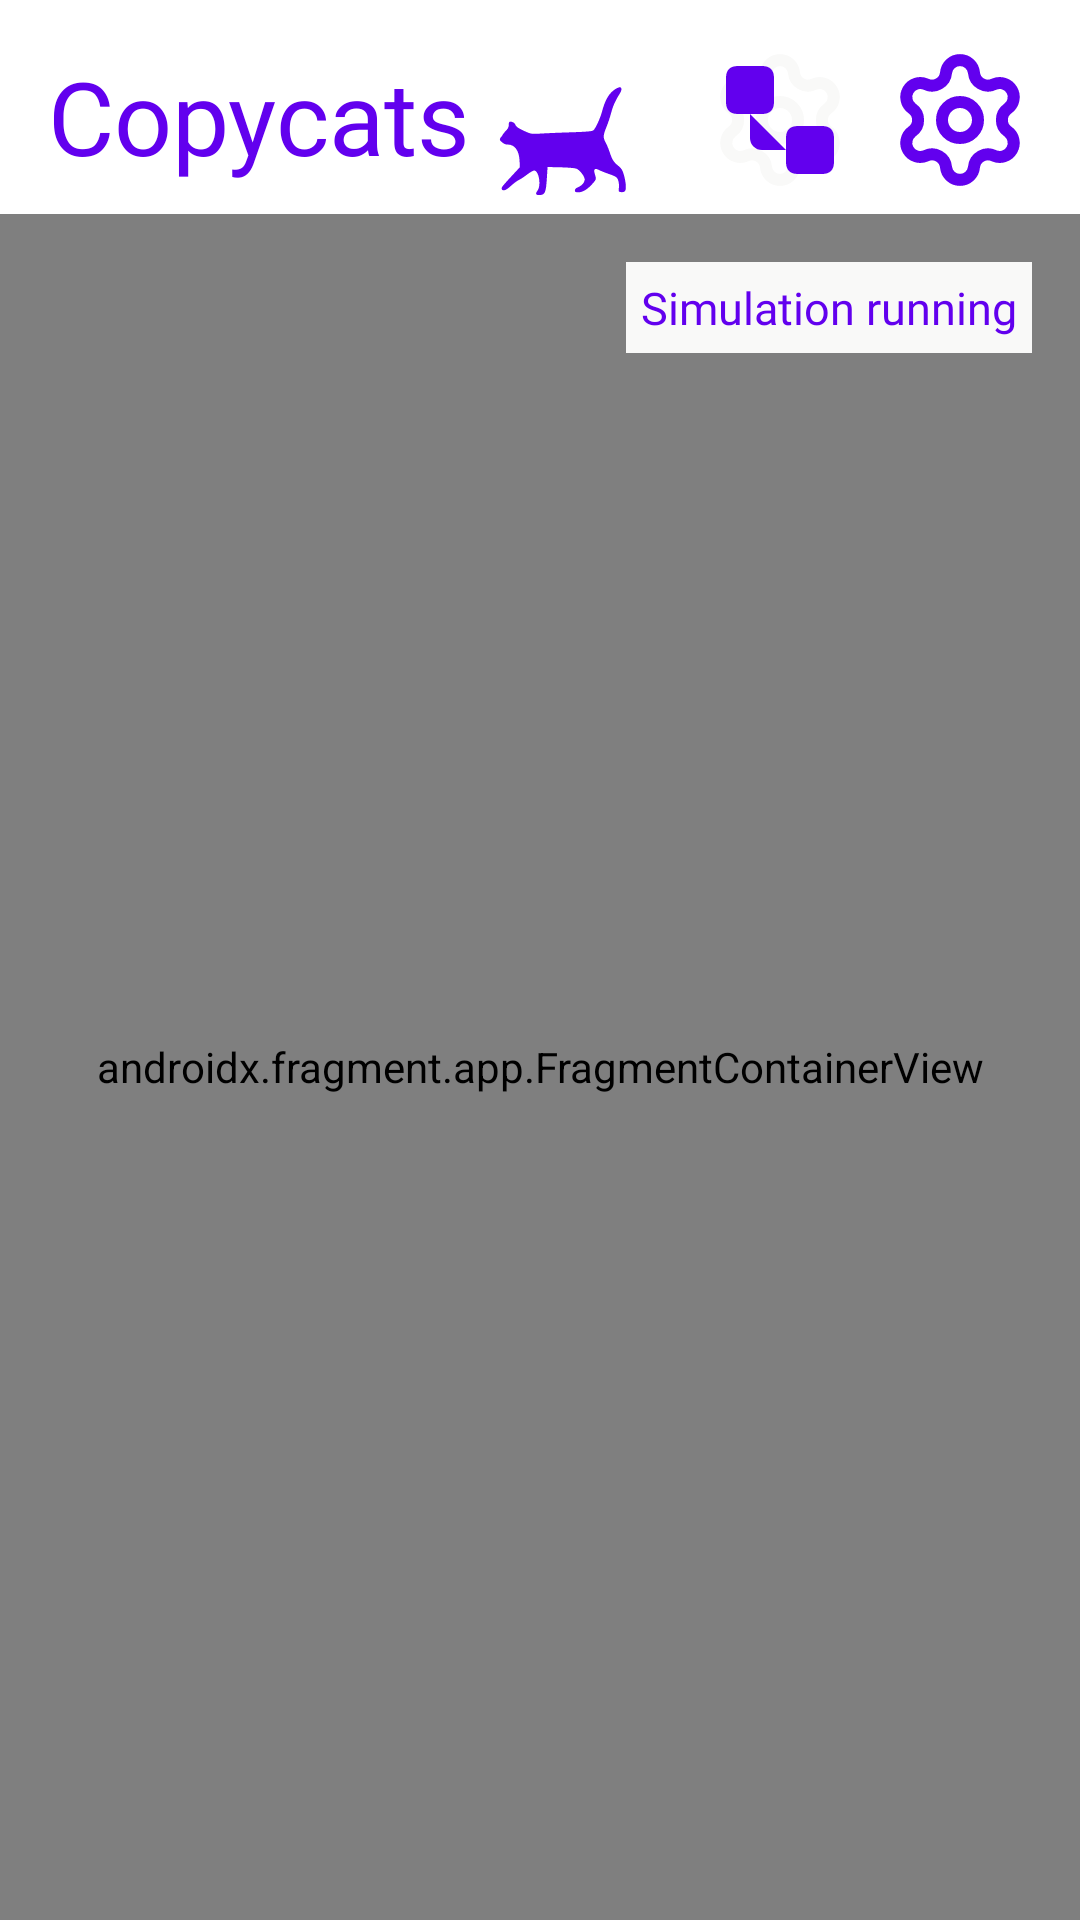

Point at icon controls on the screen. Image size 1080w x 1920h, points as point (x, y).
cat: point (563, 141)
Settings: point (960, 120)
